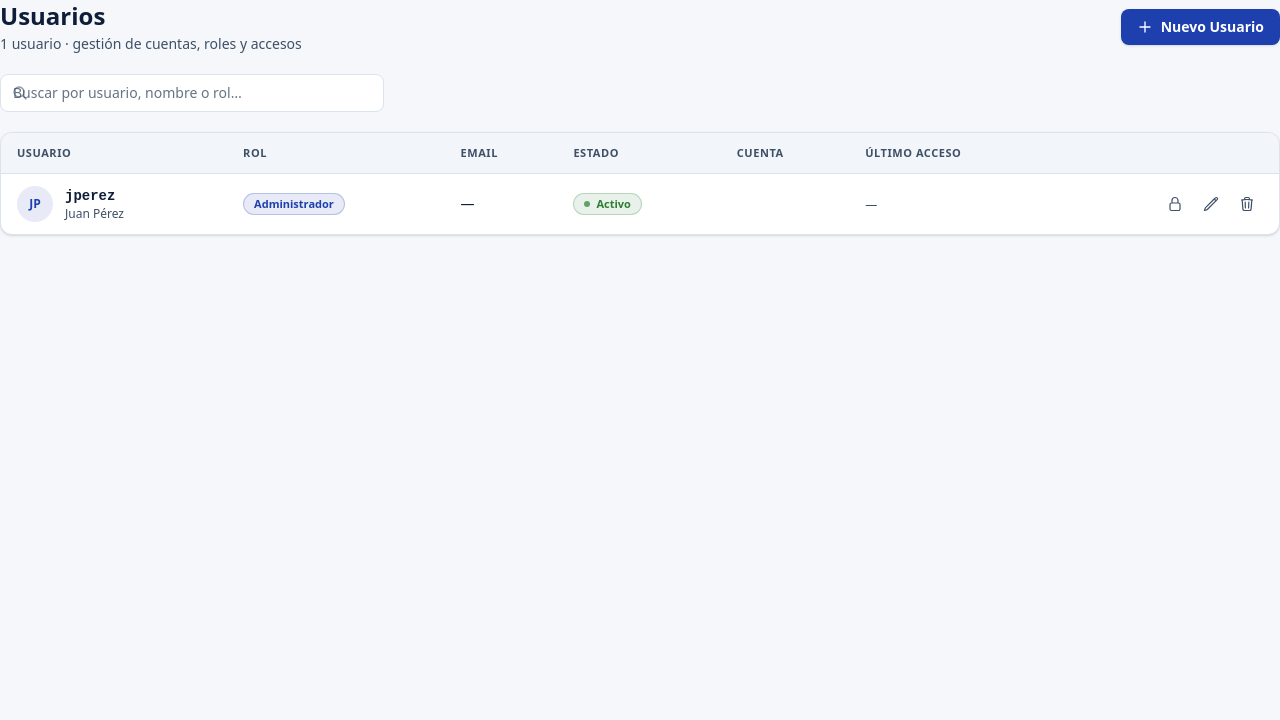
Test: Usuarios — fallbacks genéricos de ApiError › fallback genérico al forzar la contraseña
This screenshot has width=1280, height=720.
Expected: the text "Juan Pérez" is shown, [65,206,124,222]
Click the button named "Forzar cambio de contraseña para Juan Pérez": (1175, 204) [1159,188,1191,220]
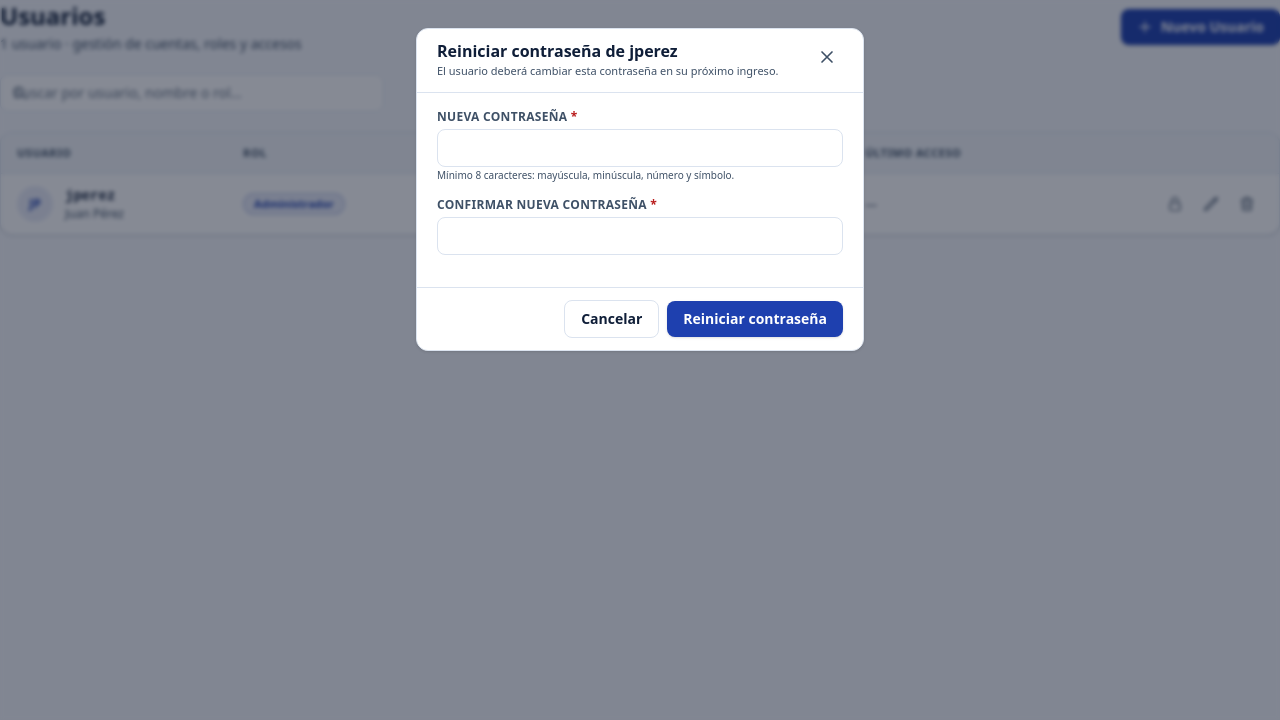
In the password field labelled "Nueva contraseña *": (640, 148) [437,128,843,166], type "secreta12"
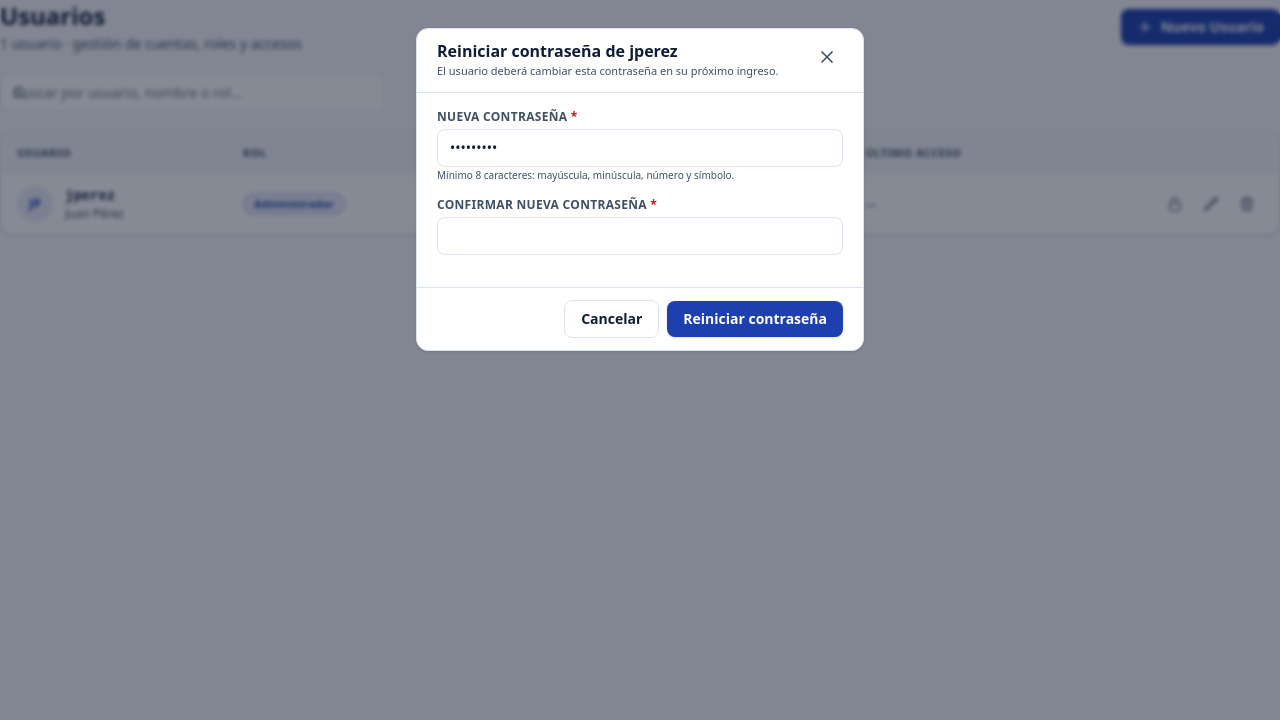
In the password field labelled "Confirmar nueva contraseña *": (640, 236) [437,217,843,255], type "secreta12"
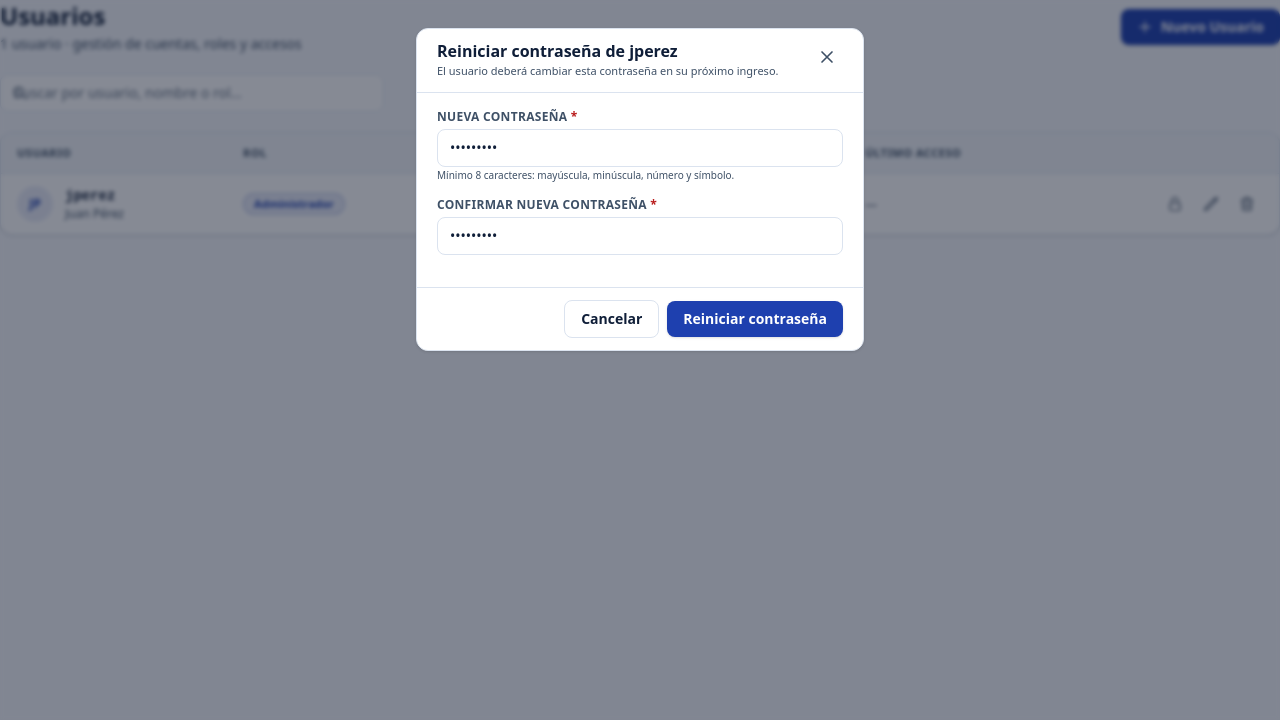
Click the button "Reiniciar contraseña": (755, 319) [667,301,843,337]
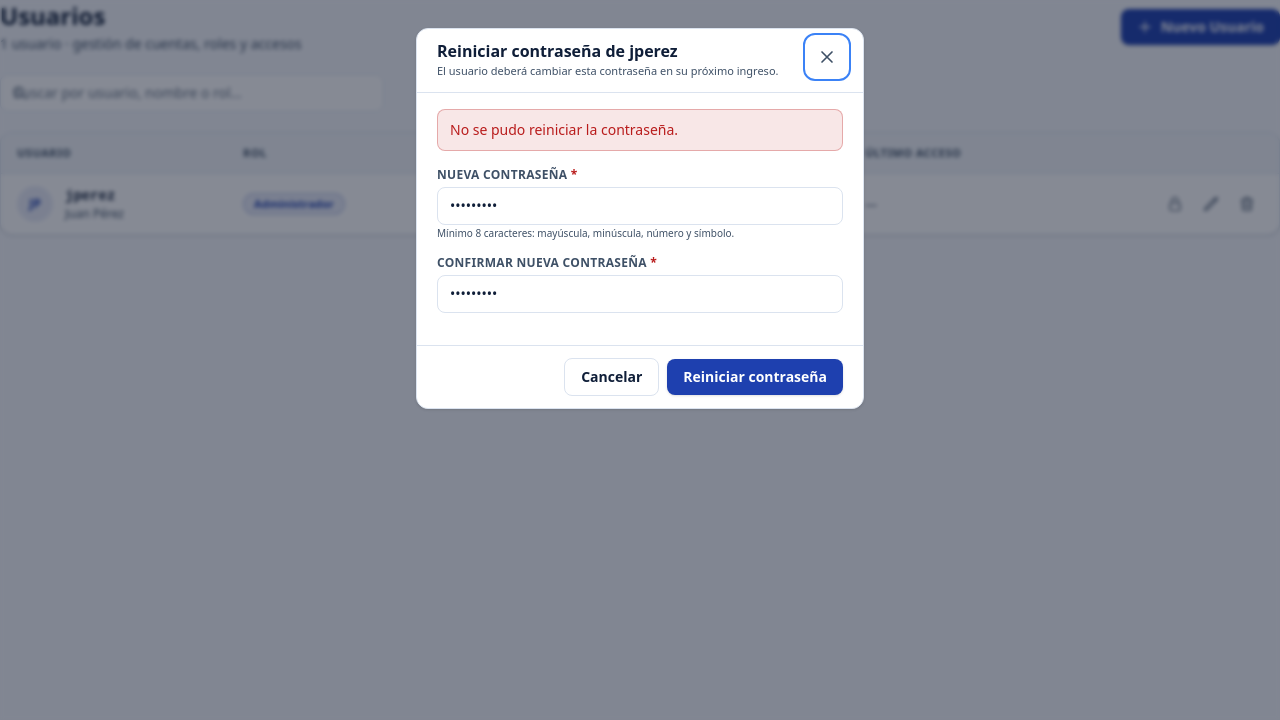
Now the dialog is shown
Now the message reads "No se pudo reiniciar la contraseña.", box [450,120,678,138]
